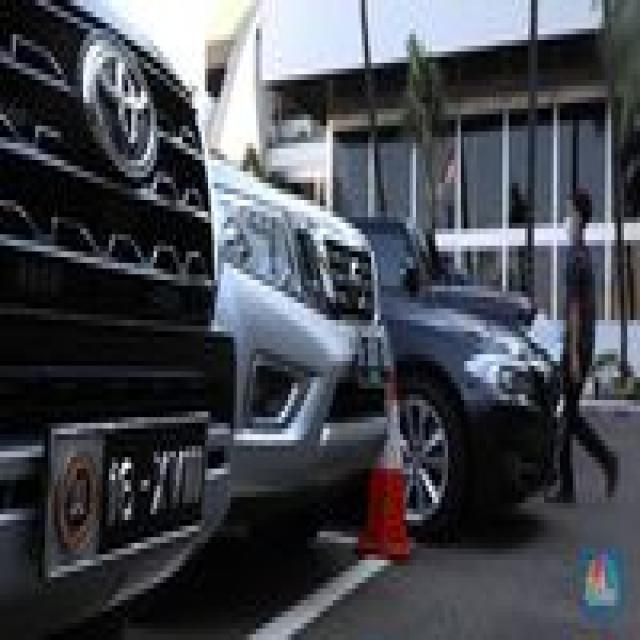lisence-plate: (39, 398, 219, 573)
